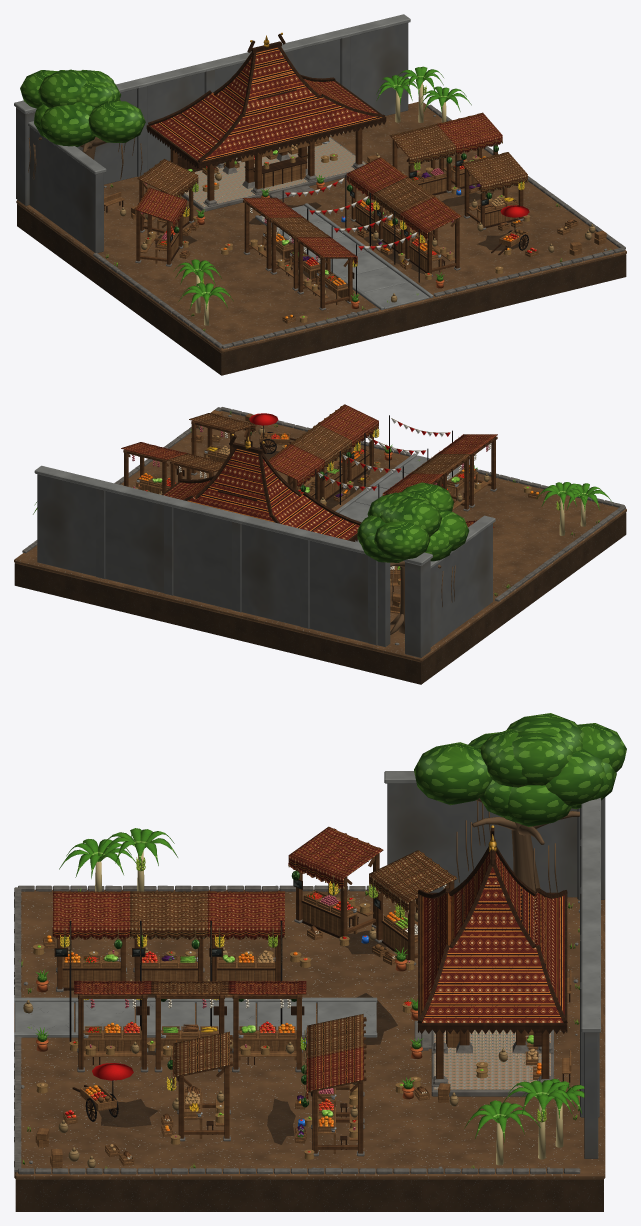
The model's file is Pasar.fbx.
The picture shows the model from 3 angles, top to bottom: view 1: azimuth 30°, elevation 25°; view 2: azimuth 150°, elevation 25°; view 3: azimuth 270°, elevation 25°; orthographic projection. The views are drawn at different scales.
Visible parts, largest first — view 1: Ground_Dirt, Wall_Plaster, Ground_Soil, Pendopo_RoofLow, Env_Banyan, Ground_Path, Pendopo_RoofTop, Wall_Concrete, Pendopo_RoofTrim, Env_BananaPlants, Env_Border, Pendopo_Floor (+33 smaller); view 2: Wall_Plaster, Ground_Dirt, Ground_Soil, Env_Banyan, Wall_Concrete, Pendopo_RoofTop, Pendopo_RoofLow, Env_Border, Ground_Path, Pendopo_RoofTrim, Stall_R1_Cloth, Stall_R2_Cloth (+17 smaller); view 3: Ground_Dirt, Ground_Soil, Env_Banyan, Wall_Plaster, Pendopo_RoofLow, Ground_Path, Env_Border, Env_BananaPlants, Pendopo_RoofTop, Wall_Concrete, Pendopo_RoofTrim, Pendopo_Floor (+45 smaller).
Part boxes in pixels (x1,y1,x2,y2): Ground_Dirt: (16, 102, 626, 353); Wall_Plaster: (16, 23, 408, 252); Ground_Soil: (17, 204, 626, 375); Pendopo_RoofLow: (150, 79, 381, 161); Env_Banyan: (20, 69, 145, 179); Ground_Path: (255, 203, 433, 310); Pendopo_RoofTop: (214, 47, 317, 114); Wall_Concrete: (14, 14, 410, 174); Pendopo_RoofTrim: (146, 34, 386, 166); Env_BananaPlants: (173, 66, 471, 325); Env_Border: (93, 104, 625, 348); Pendopo_Floor: (185, 137, 365, 207); Wall_Plaster: (37, 474, 492, 657); Ground_Dirt: (14, 410, 626, 662); Ground_Soil: (14, 512, 626, 684); Env_Banyan: (357, 482, 469, 634); Wall_Concrete: (34, 465, 495, 568); Pendopo_RoofTop: (197, 448, 300, 516); Pendopo_RoofLow: (163, 480, 359, 539); Env_Border: (22, 407, 625, 601); Ground_Path: (335, 453, 463, 543); Pendopo_RoofTrim: (161, 435, 361, 541); Stall_R1_Cloth: (318, 404, 378, 447); Stall_R2_Cloth: (291, 424, 351, 467); Ground_Dirt: (14, 889, 605, 1179); Ground_Soil: (15, 1179, 603, 1211); Env_Banyan: (414, 713, 626, 921); Wall_Plaster: (387, 783, 605, 1158); Pendopo_RoofLow: (420, 892, 564, 1022); Ground_Path: (14, 997, 377, 1037); Env_Border: (14, 885, 580, 1174); Env_BananaPlants: (59, 828, 584, 1165); Pendopo_RoofTop: (451, 852, 534, 947); Wall_Concrete: (384, 771, 600, 1032); Pendopo_RoofTrim: (417, 828, 567, 1029); Pendopo_Floor: (434, 1029, 550, 1089).
Size of the model in its own units: 100 by 37.9 by 87.11.
13 materials, 13 textured.
